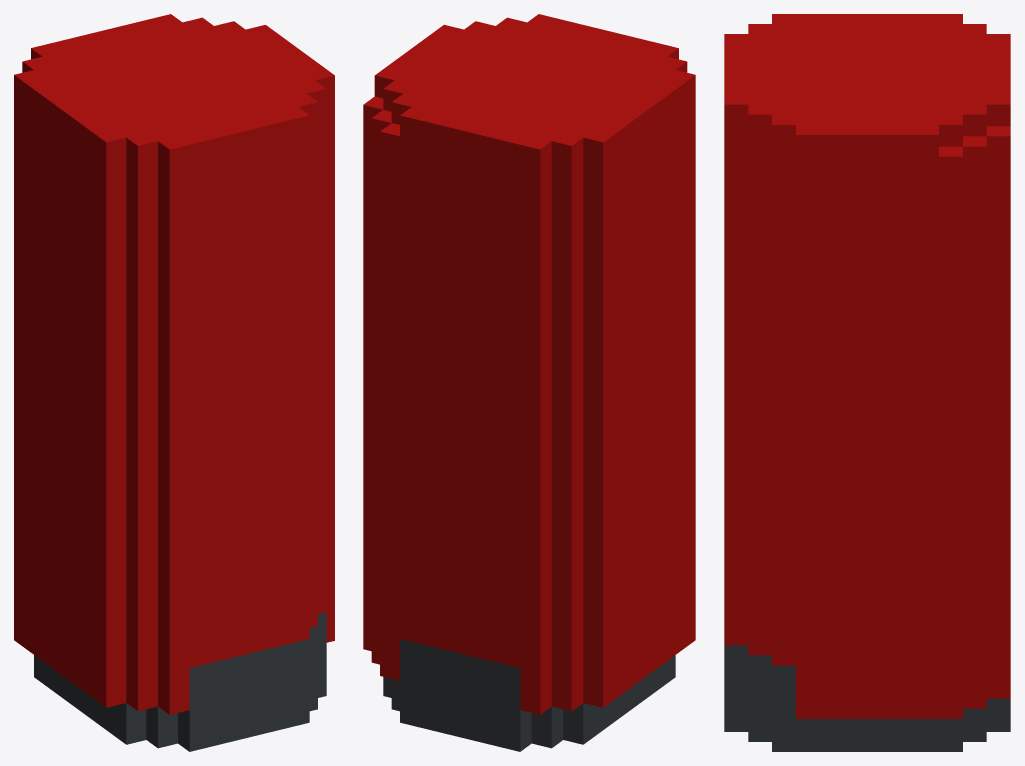
File: worn_hoodie_fore.glb
3 renders of one model, left to right at view 1: azimuth 30°, elevation 25°; view 2: azimuth 150°, elevation 25°; view 3: azimuth 270°, elevation 25°, orthographic. The views are drawn at different scales.
Visible parts, largest first — view 1: garment:compound; view 2: garment:compound; view 3: garment:compound.
Boxes of the visible parts, bbox=[...] form: garment:compound: bbox=[14, 14, 334, 751]; garment:compound: bbox=[363, 14, 695, 751]; garment:compound: bbox=[724, 14, 1010, 751].
Bounding box in the file's own units: 0.12 × 0.29 × 0.12.
